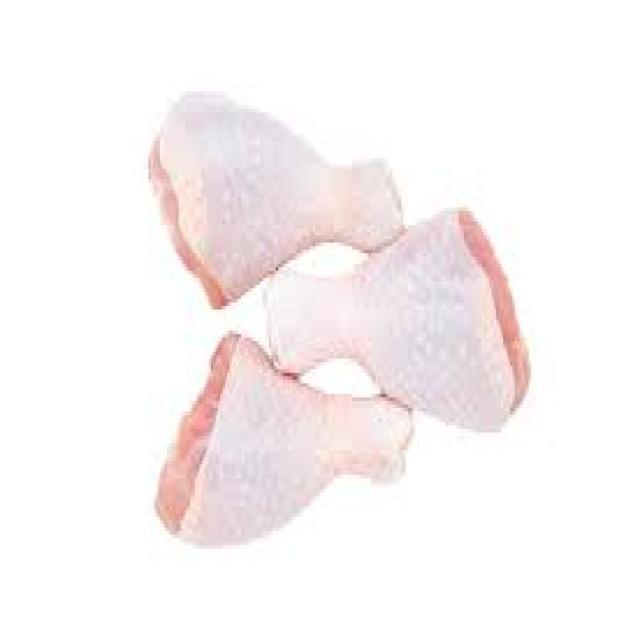leg: (256, 201, 533, 437), (149, 75, 399, 298), (153, 338, 415, 546)
